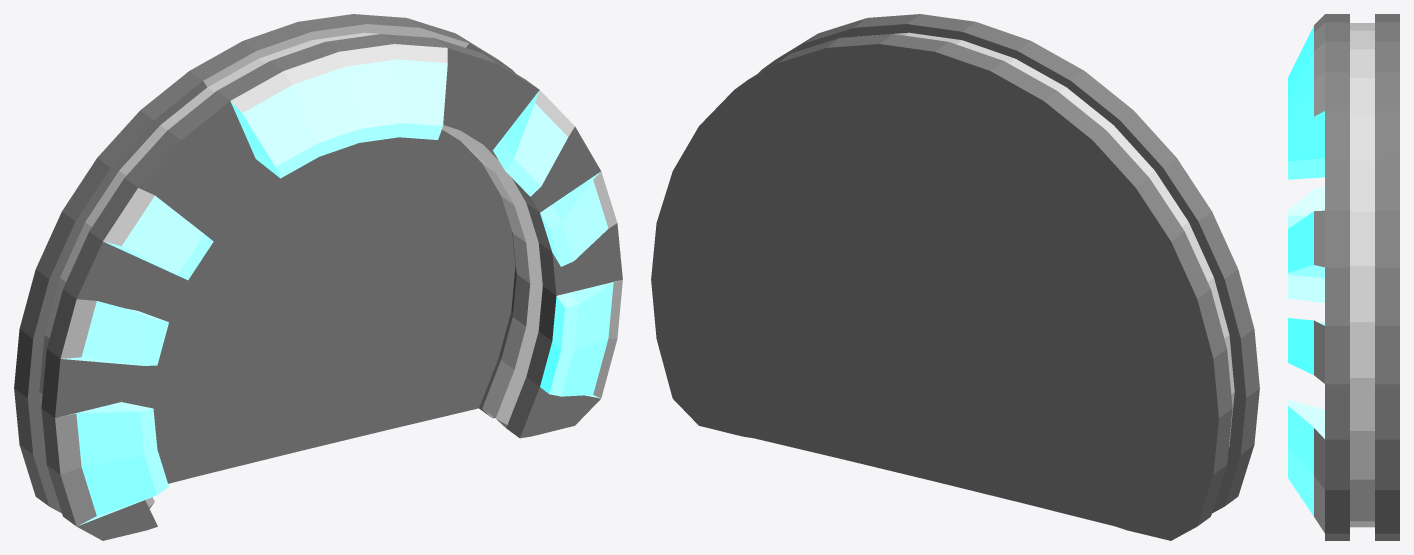
File: Portal.fbx
The picture shows the model from 3 angles, left to right: view 1: azimuth 30°, elevation 25°; view 2: azimuth 150°, elevation 25°; view 3: azimuth 270°, elevation 25°; orthographic projection. The views are drawn at different scales.
Visible parts, largest first — view 1: Circle.002; view 2: Circle.002; view 3: Circle.002.
Boxes of the visible parts, left/top/right/bottom form: Circle.002: left=14, top=14, right=622, bottom=540; Circle.002: left=651, top=14, right=1259, bottom=540; Circle.002: left=1288, top=14, right=1399, bottom=540.
Bounding box in the file's own units: 611 × 444 × 114.
